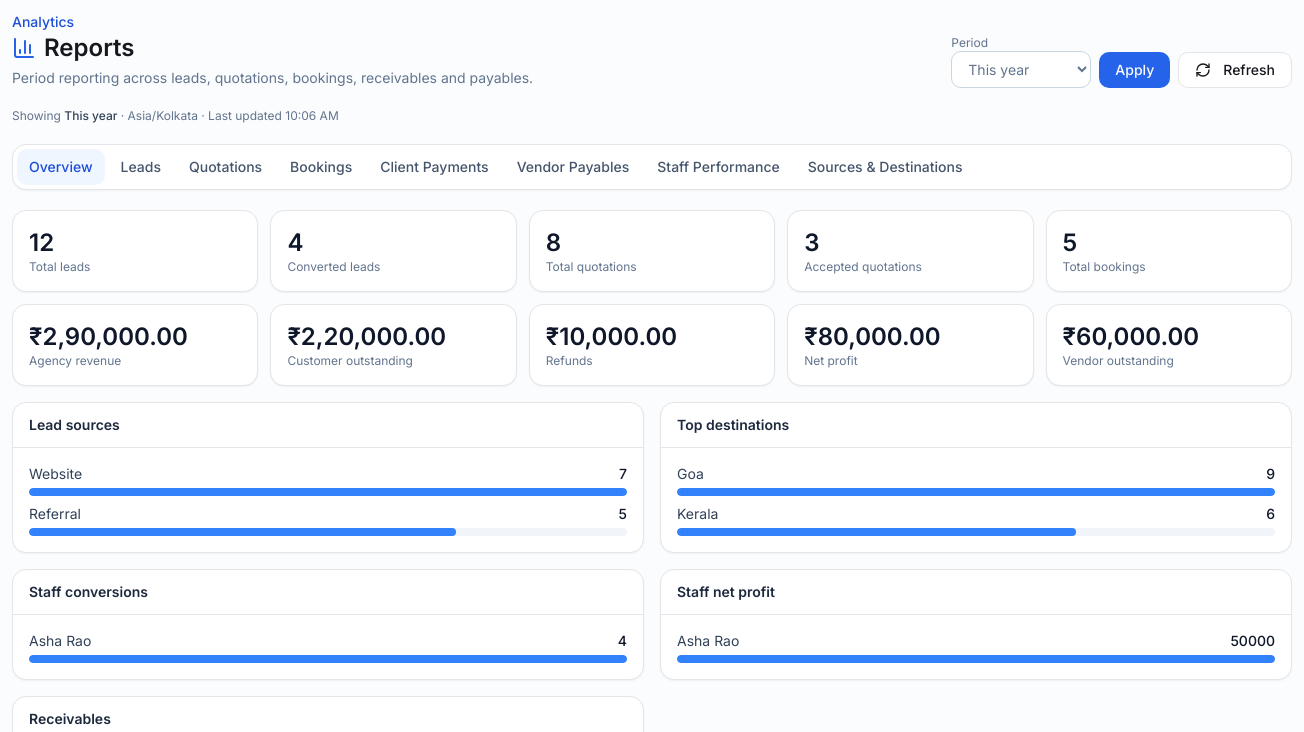
Test: Phase 19 reports tabs › renders the Quotations tab with rows and a result count
This screenshot has width=1304, height=732.
Click the button "Quotations": click(226, 167) [177,149,274,185]
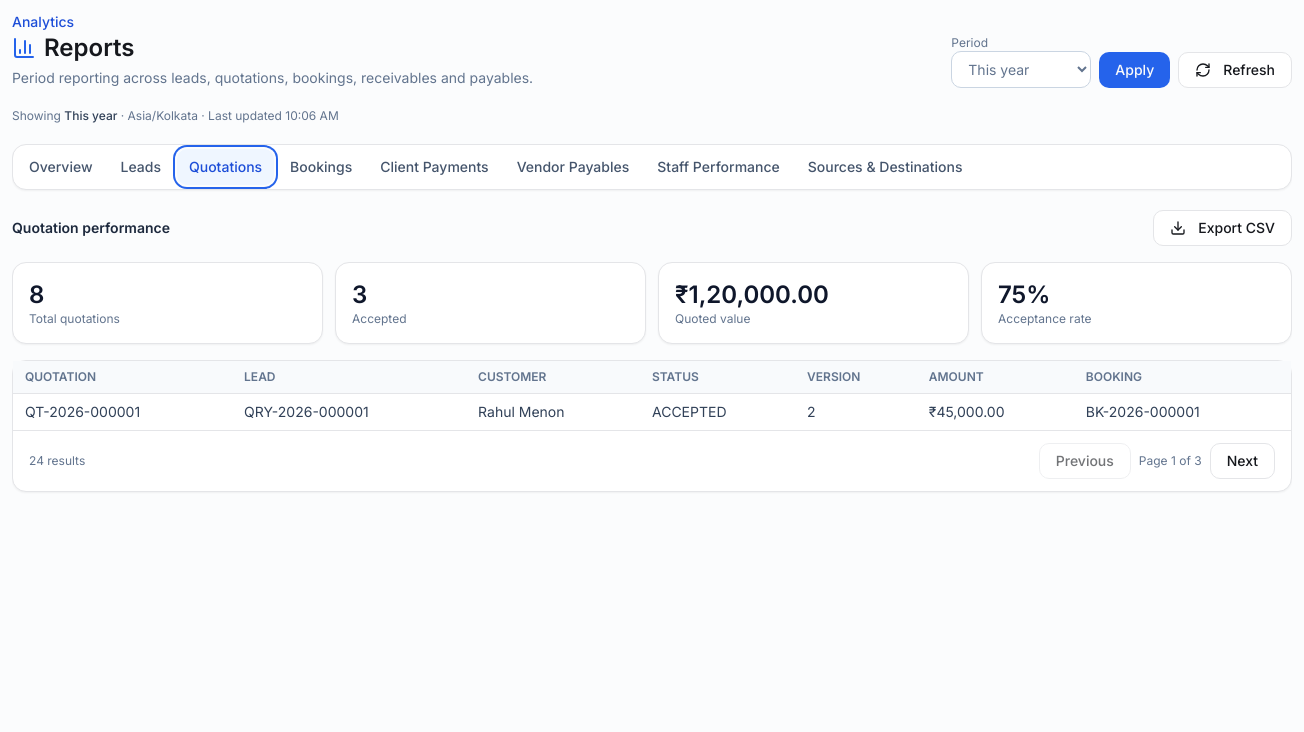
Now the text "QT-2026-000001" is shown, box [13,394,232,430]
Now the text "Quoted value" is shown, box [675,311,750,326]
Now the text "24 results" is shown, box [29,453,85,469]
